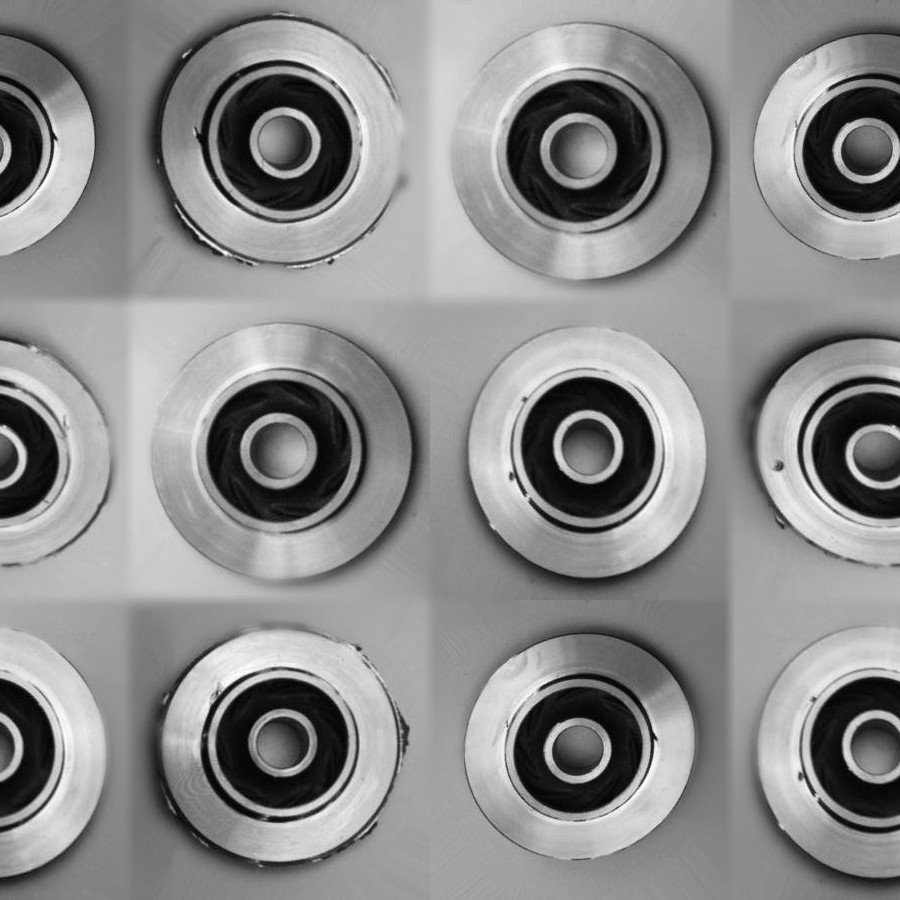pump_impeller: (146, 314, 421, 586), (446, 18, 717, 284), (149, 10, 406, 274), (146, 620, 406, 873), (464, 323, 709, 585), (461, 626, 700, 865), (751, 626, 900, 881), (747, 330, 899, 567), (749, 26, 900, 262), (1, 630, 108, 880), (0, 334, 113, 566), (0, 30, 97, 263)
